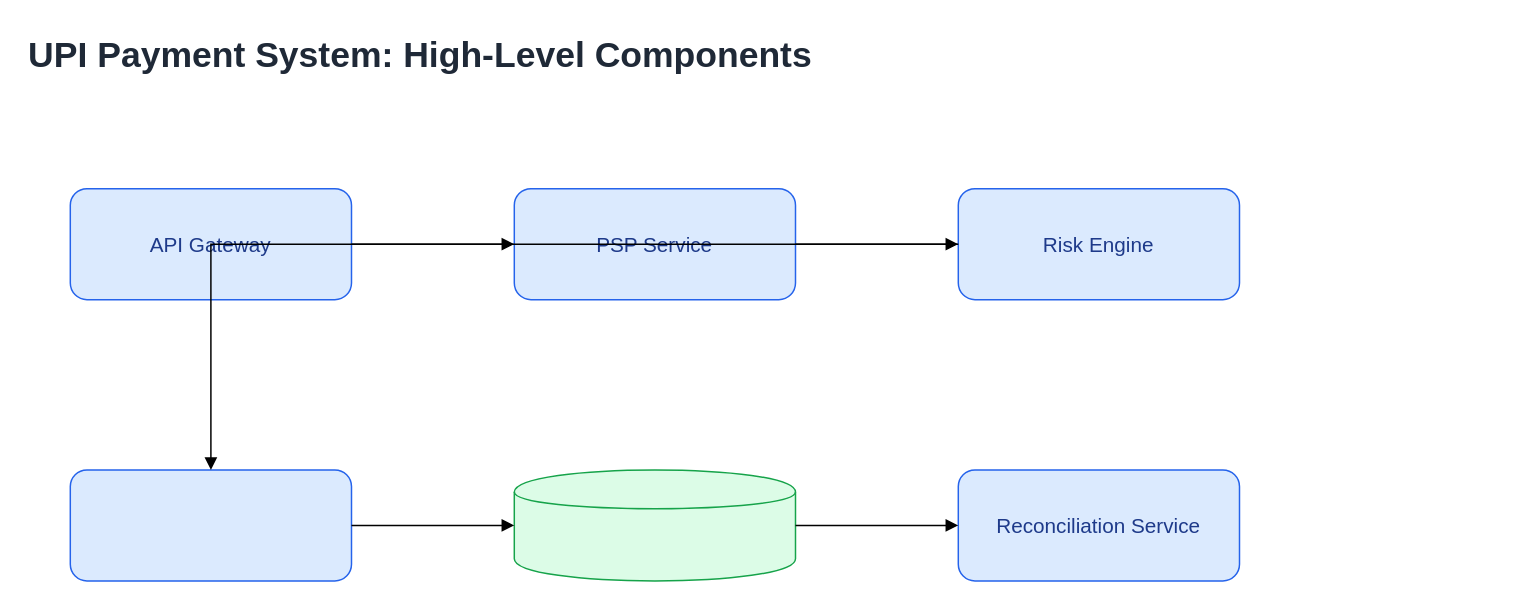
The diagram is 1530 pixels wide and 607 high, and some of its shapes have lost their labels. The shapes that lost their labels are listed below. From the top down, each one's centre as x and y in pixels, then its label:
At point 210,524: "Payment Orchestrator".
At point 654,524: "Ledger".
